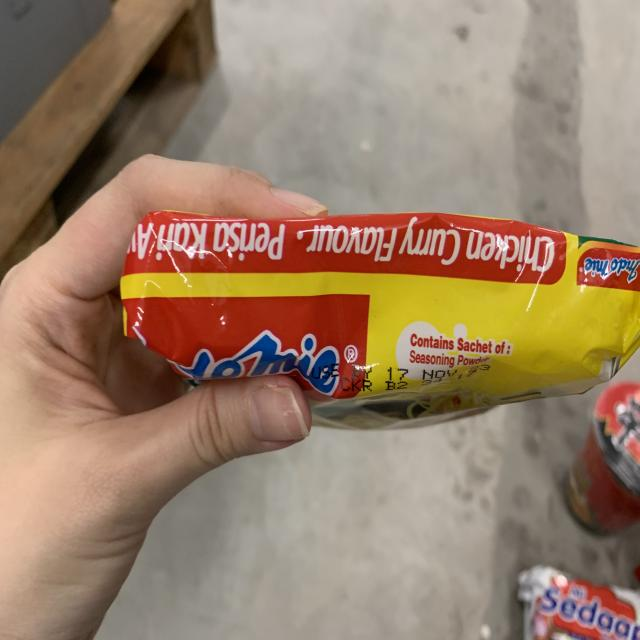object_name: (126, 211, 637, 396)
